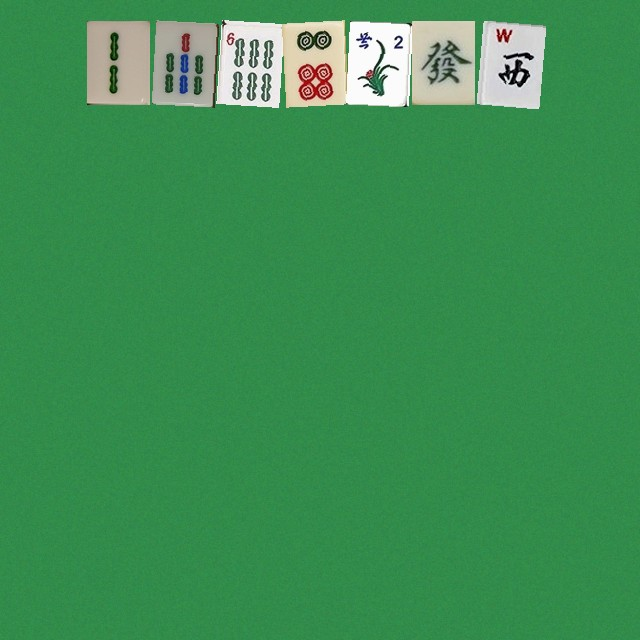tile: (86, 20, 149, 104), (151, 20, 214, 104), (216, 20, 279, 104), (281, 20, 344, 104), (346, 20, 409, 104), (411, 20, 474, 104), (476, 20, 539, 104)
